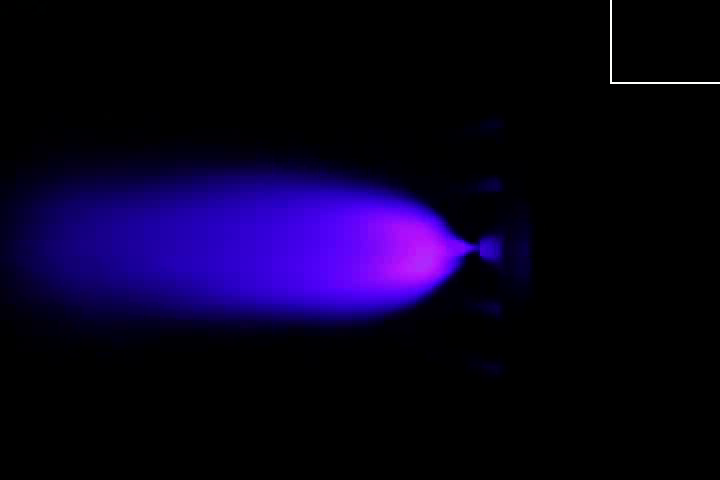burner cap: (479, 233, 507, 263)
stable: (337, 176, 476, 308)
